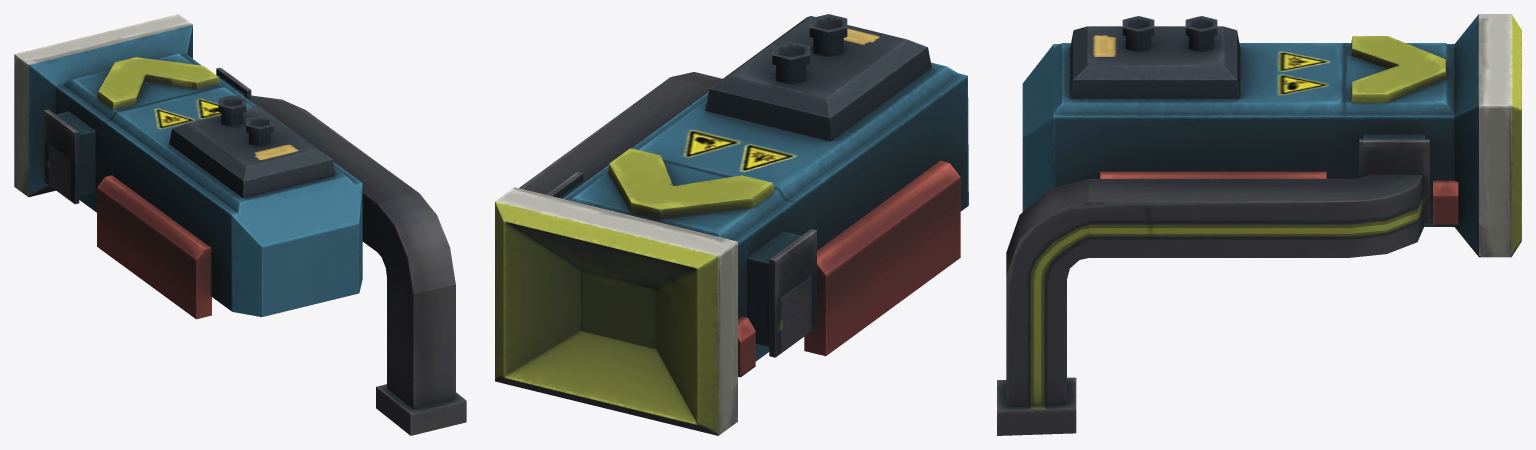
The model's file is trap_140_dhsb.fbx.
The picture shows the model from 3 angles, left to right: view 1: azimuth 30°, elevation 25°; view 2: azimuth 150°, elevation 25°; view 3: azimuth 270°, elevation 25°; orthographic projection. The views are drawn at different scales.
Parts seen in each view (by area): view 1: trap_140_dhsb; view 2: trap_140_dhsb; view 3: trap_140_dhsb.
Part boxes in pixels (x1,y1,x2,y2): trap_140_dhsb: (14, 14, 466, 435); trap_140_dhsb: (495, 14, 968, 435); trap_140_dhsb: (997, 14, 1521, 435).
Size of the model in its own units: 0.724 by 0.8616 by 1.24.
1 material, 1 textured.
